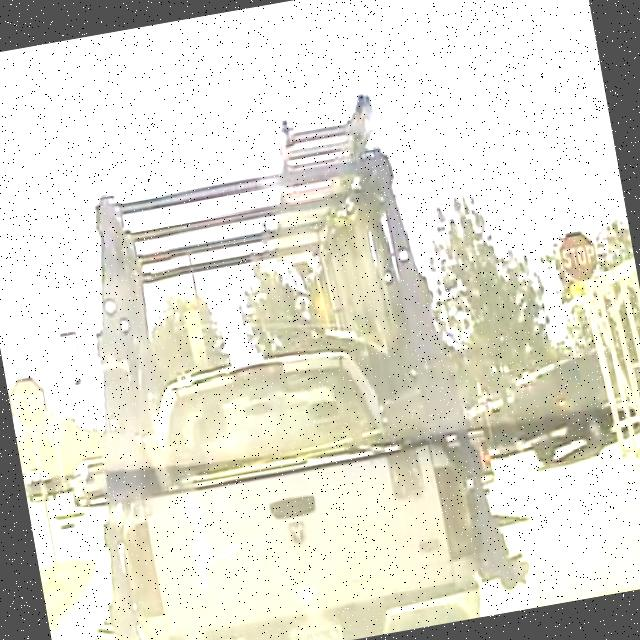Stop: (553, 228, 602, 286)
